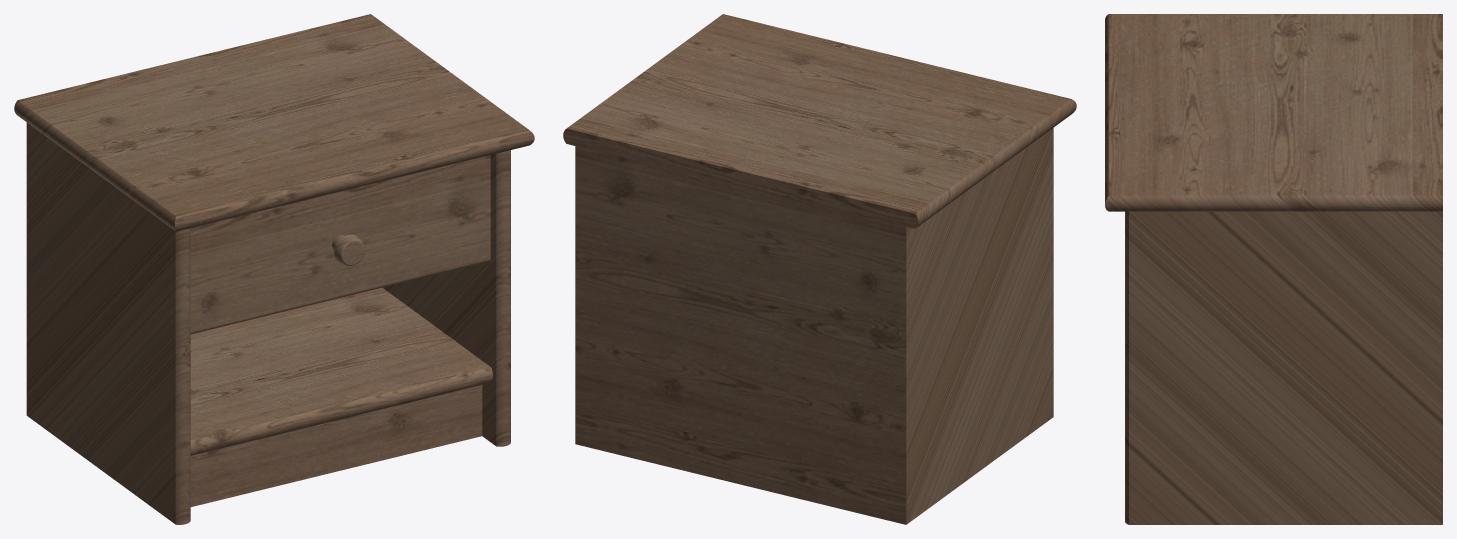
File: Bedside Table D.obj
3 renders of one model, left to right at view 1: azimuth 30°, elevation 25°; view 2: azimuth 150°, elevation 25°; view 3: azimuth 270°, elevation 25°, orthographic. The views are drawn at different scales.
Parts seen in each view (by area): view 1: default_1_1_1; view 2: default_1_1_1; view 3: default_1_1_1.
Part boxes in pixels (left/top/right/bottom): default_1_1_1: left=14, top=14, right=534, bottom=524; default_1_1_1: left=563, top=14, right=1076, bottom=524; default_1_1_1: left=1105, top=14, right=1442, bottom=524.
Size of the model in its own units: 44 by 37.1 by 34.
1 material, 1 textured.
